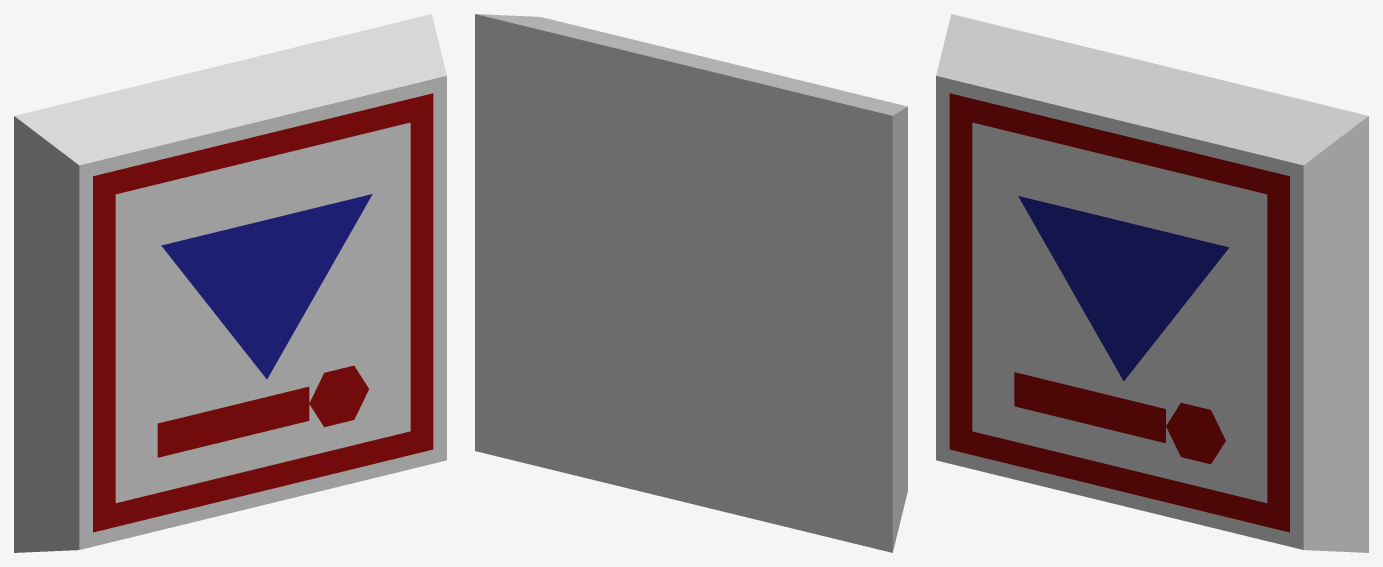
The model's file is SciFi_Semiotic_Cryogenic_Vault_01.fbx.
3 views of the same model, side by side, from view 1: azimuth 30°, elevation 25°; view 2: azimuth 150°, elevation 25°; view 3: azimuth 330°, elevation 25° (orthographic).
Parts seen in each view (by area): view 1: SciFi_Semiotic_Cryogenic_Vault_01; view 2: SciFi_Semiotic_Cryogenic_Vault_01; view 3: SciFi_Semiotic_Cryogenic_Vault_01.
Boxes of the visible parts, x1=… form: SciFi_Semiotic_Cryogenic_Vault_01: x1=14, y1=14, x2=446, y2=552; SciFi_Semiotic_Cryogenic_Vault_01: x1=475, y1=14, x2=907, y2=552; SciFi_Semiotic_Cryogenic_Vault_01: x1=936, y1=14, x2=1368, y2=552.
Bounding box in the file's own units: 15.81 × 15.81 × 2.64.
